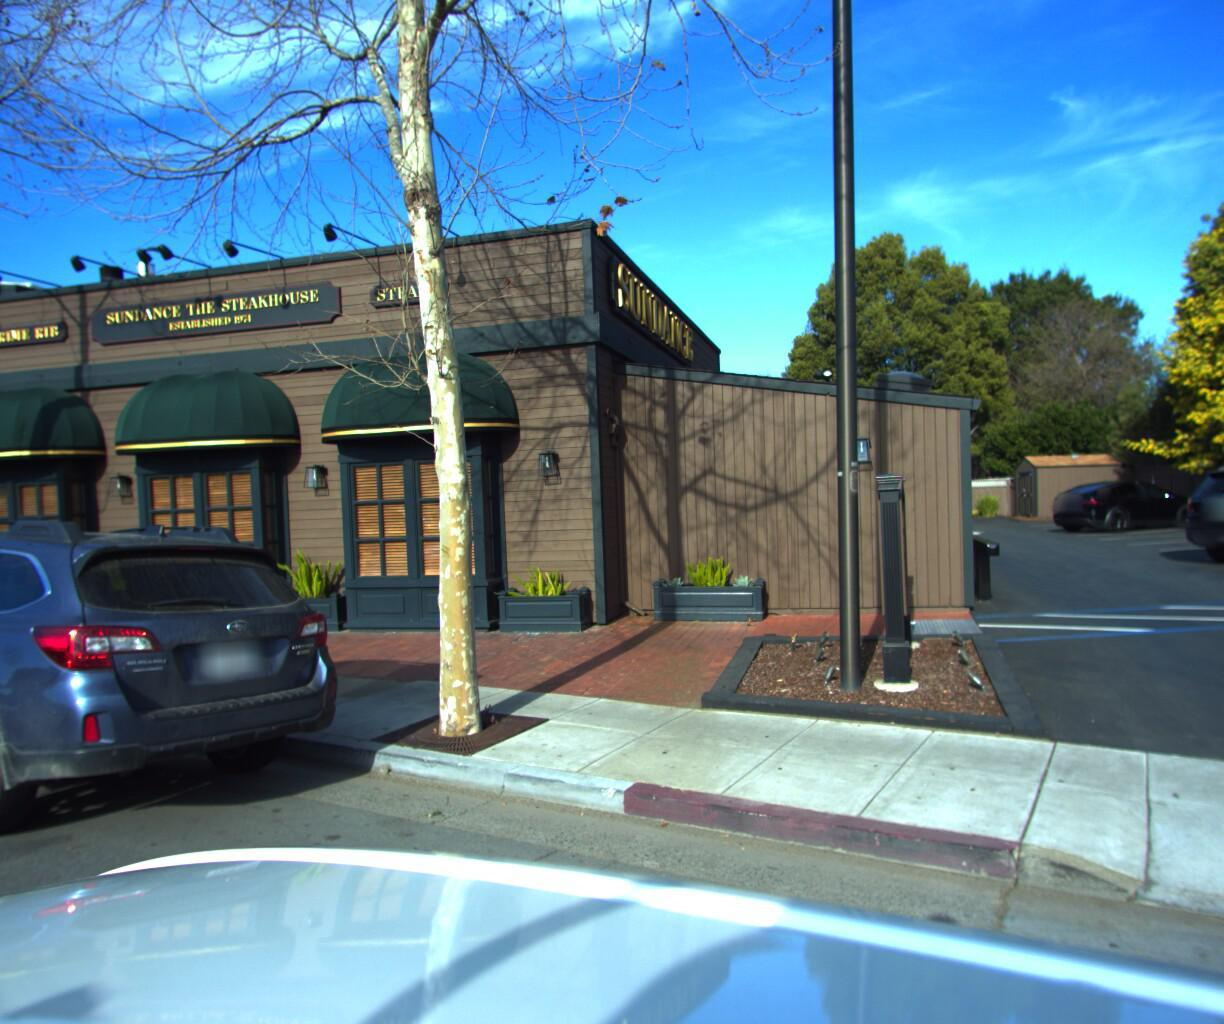car: (0, 501, 388, 933)
